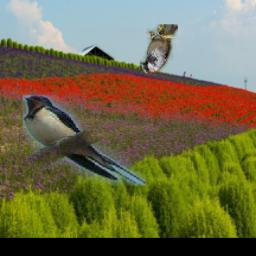Sparrow: (140, 25, 178, 75)
Swallow: (23, 95, 146, 185)
